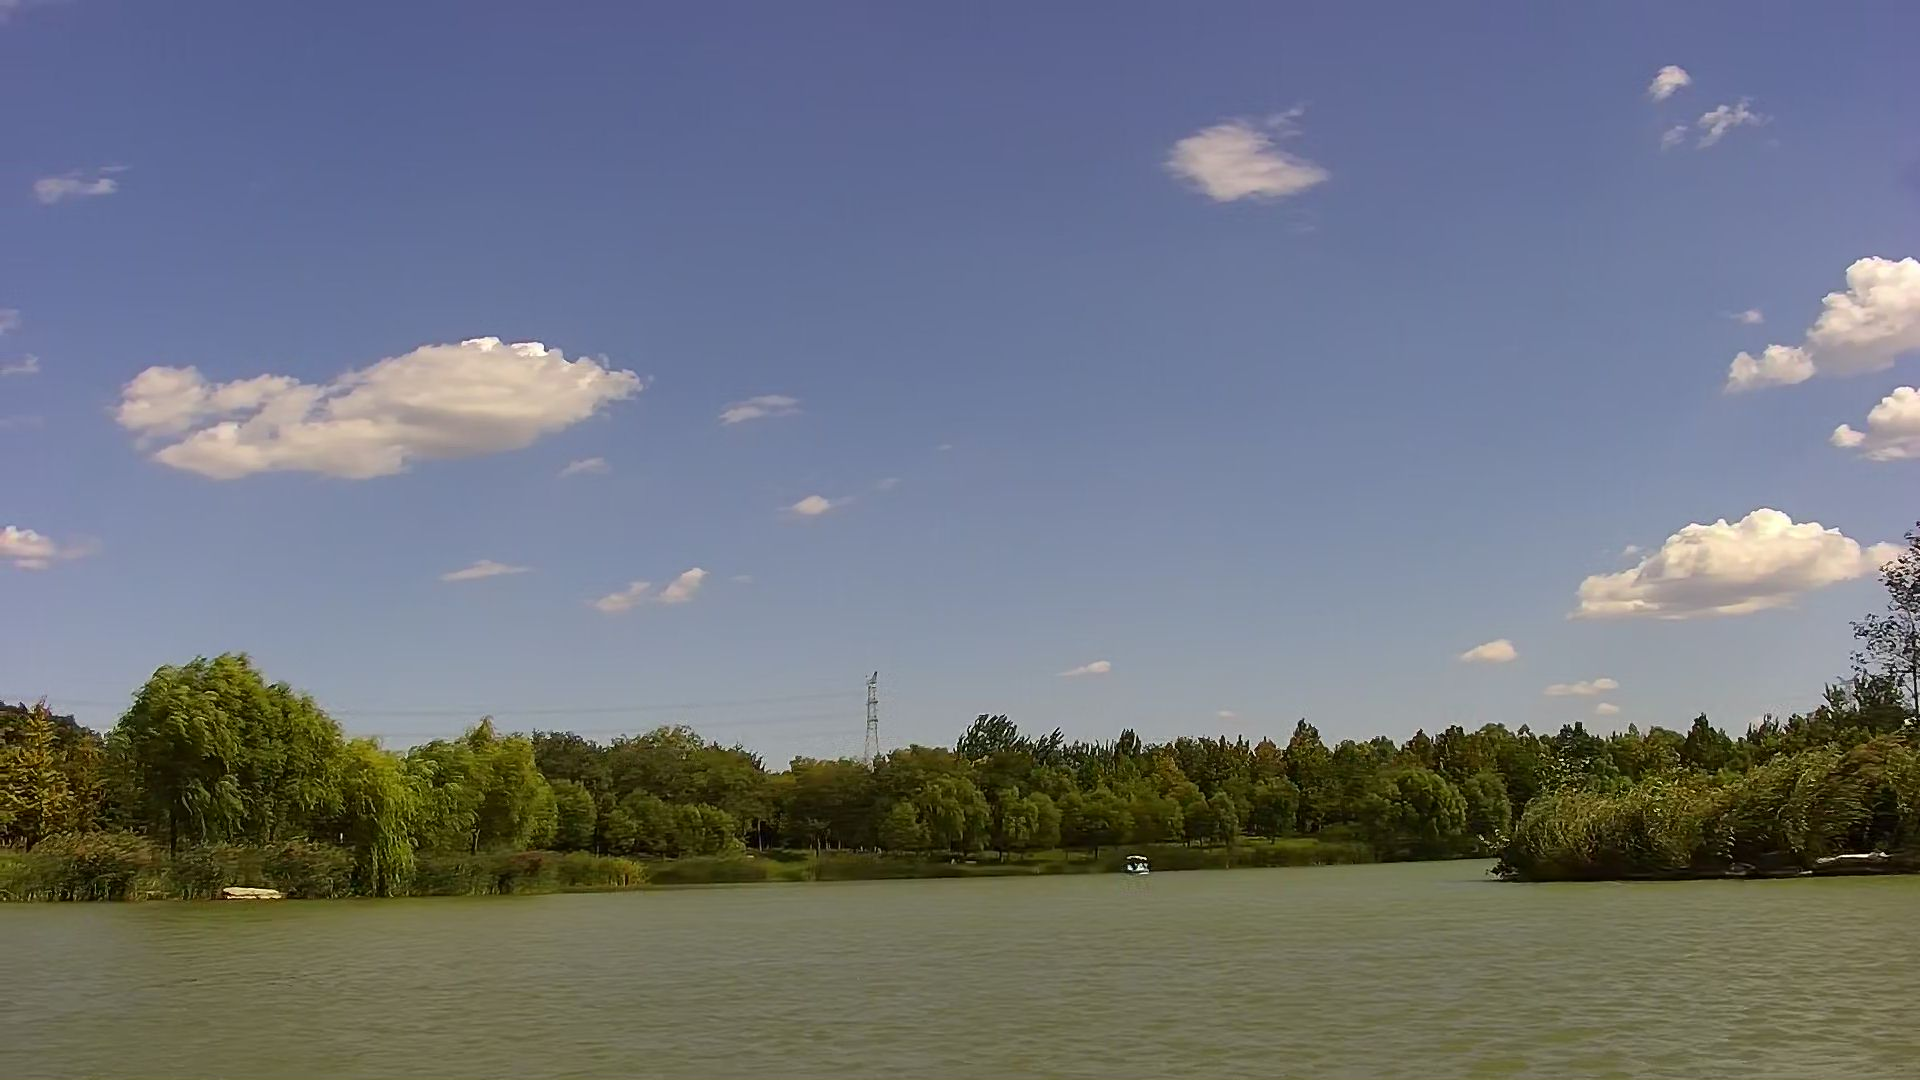boat: (1124, 853, 1153, 877)
